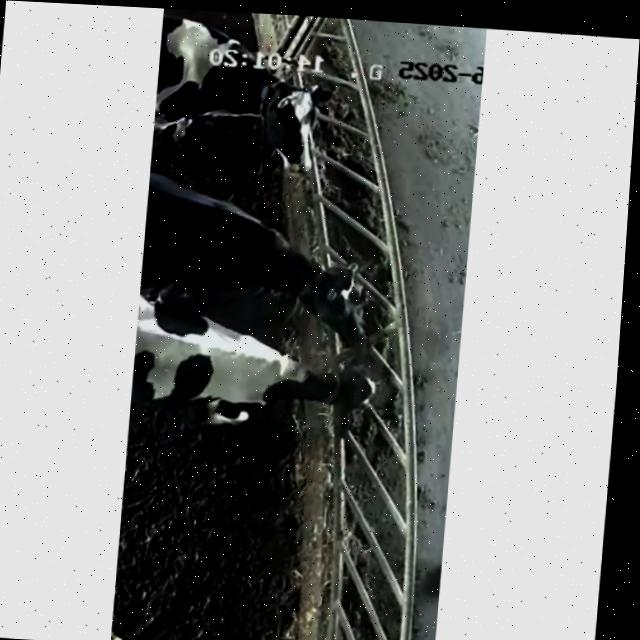eat: (224, 337, 452, 441)
